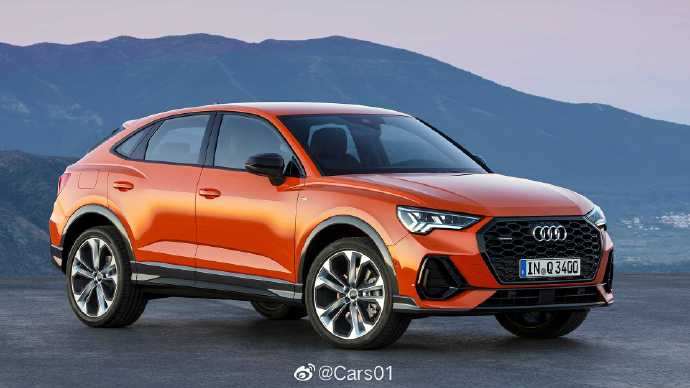other: (50, 108, 614, 357)
